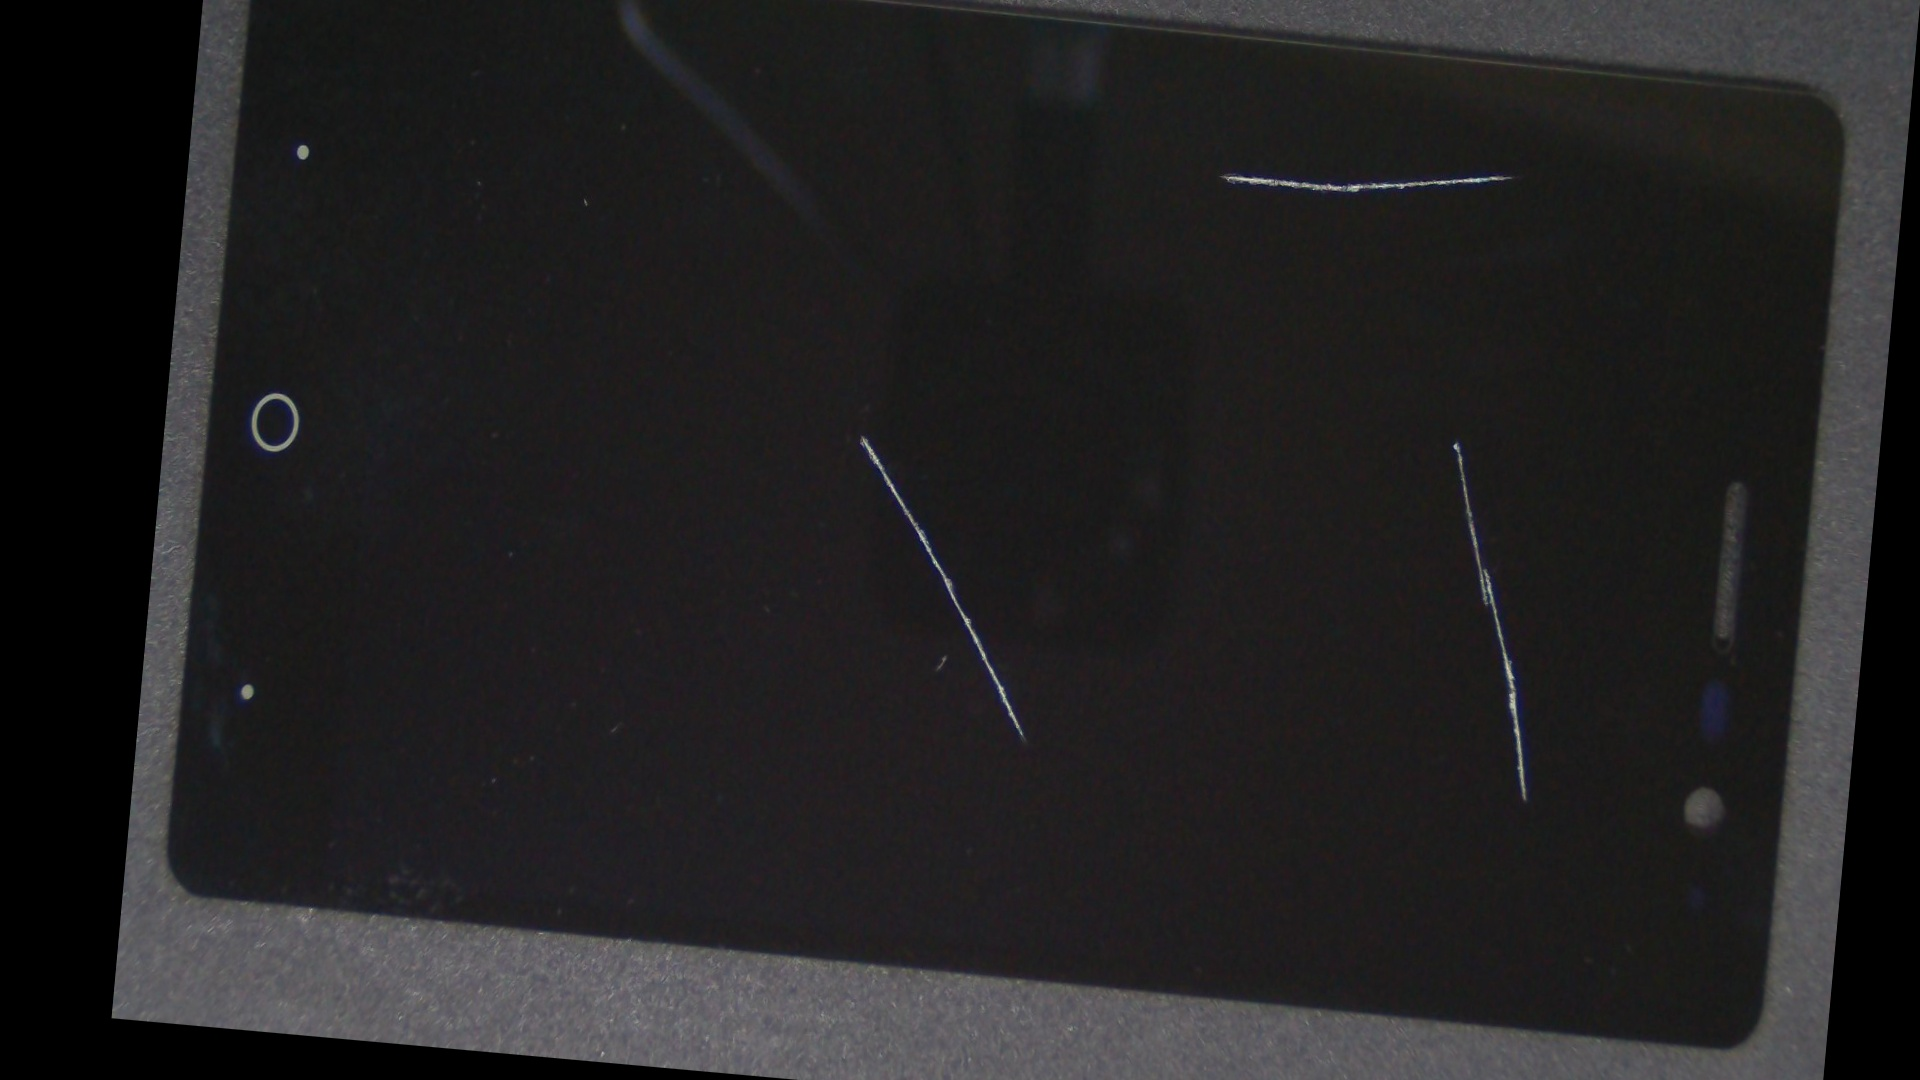oil: (794, 131, 1900, 731), (493, 128, 1236, 741), (837, 0, 1912, 328)
